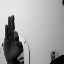f: (2, 14, 25, 62)
